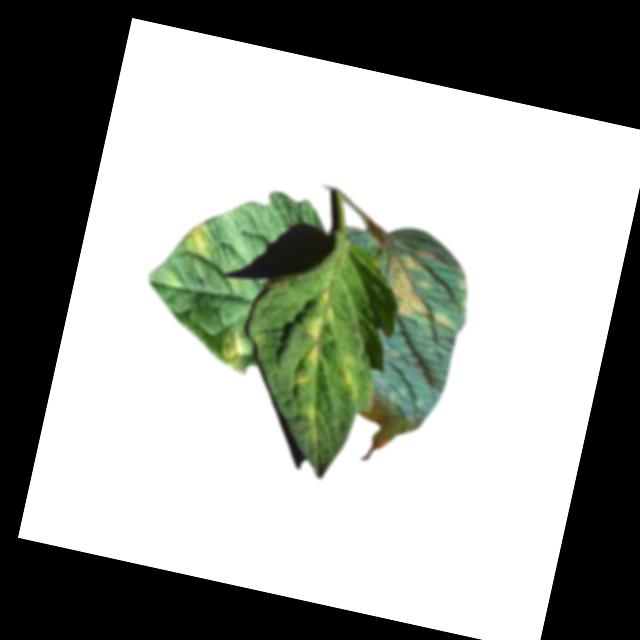Leaf_Mold: (281, 285, 347, 442), (376, 242, 471, 334), (175, 218, 219, 268), (329, 353, 368, 403), (214, 328, 253, 373)
